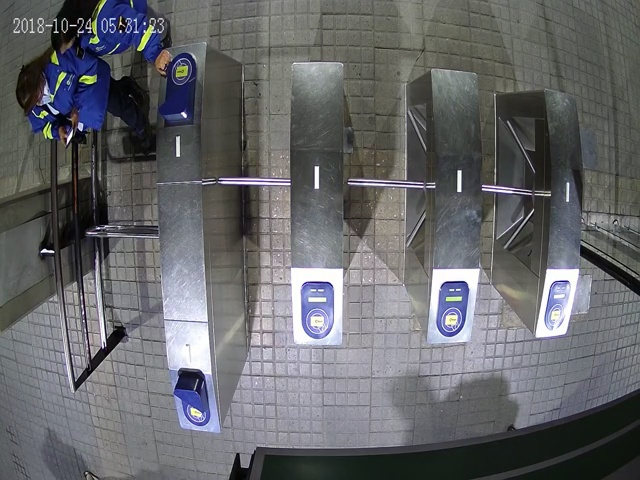Chaleco_azul: (15, 50, 151, 143), (51, 1, 171, 76)
